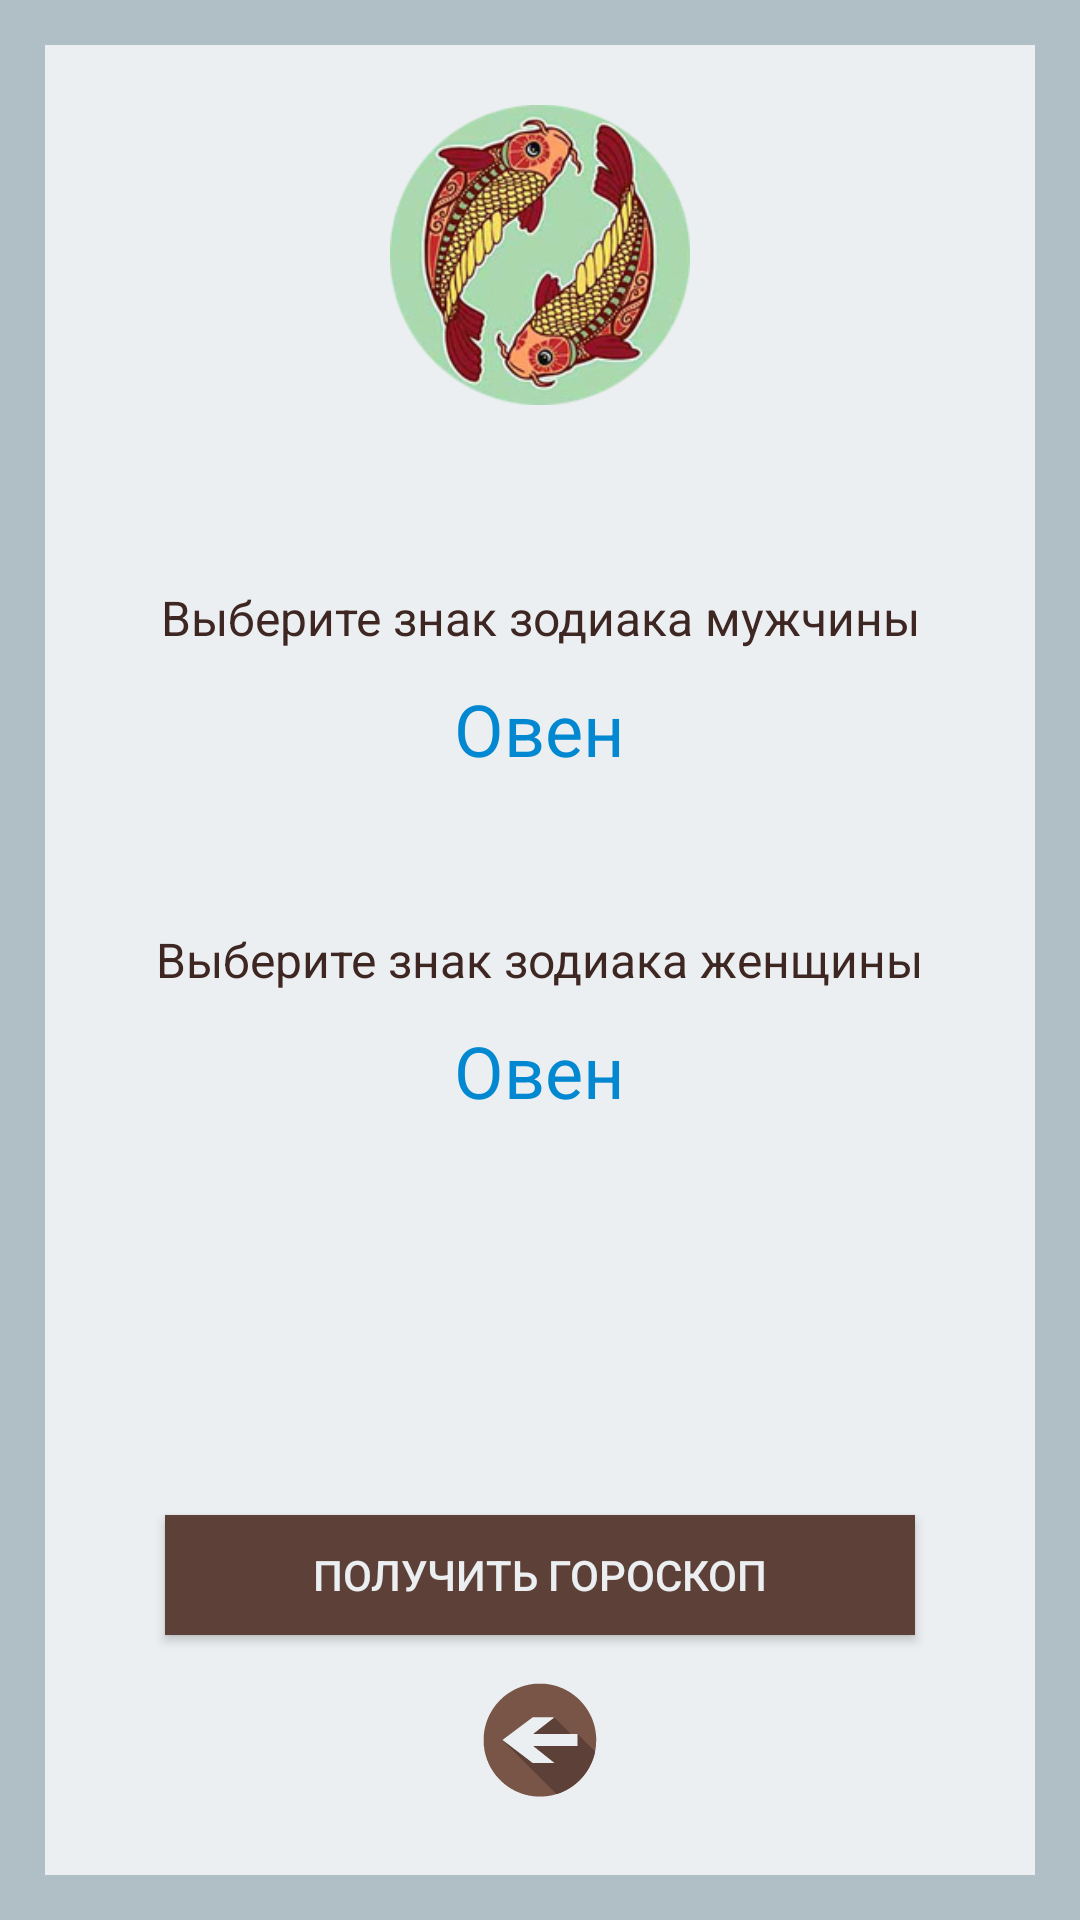

Point at icon controls on the screen. Image size 1080 × 1920, points as [x,y].
zodiak compatibility: [540,255]
